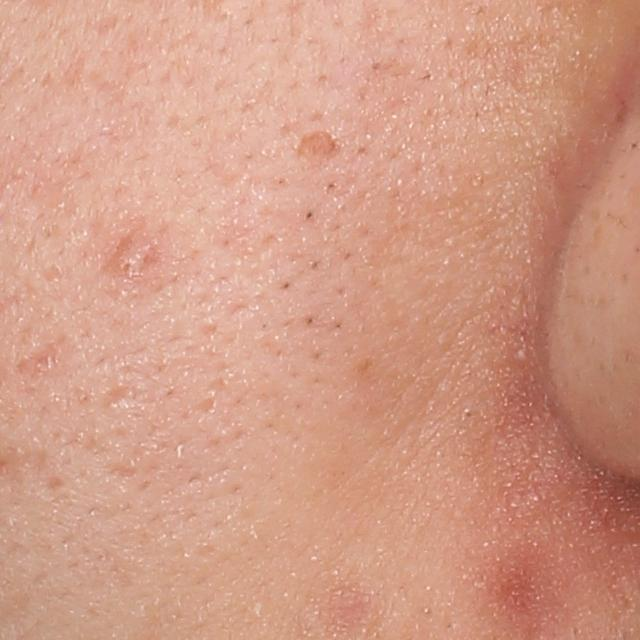atrophic_scar: (289, 126, 349, 173), (9, 334, 71, 378)
